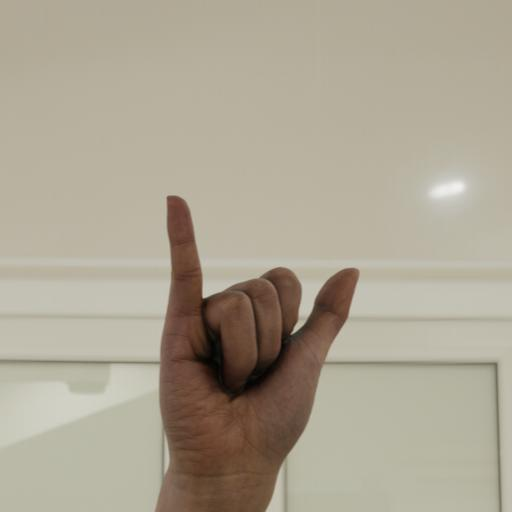Y: (148, 192, 362, 470)
